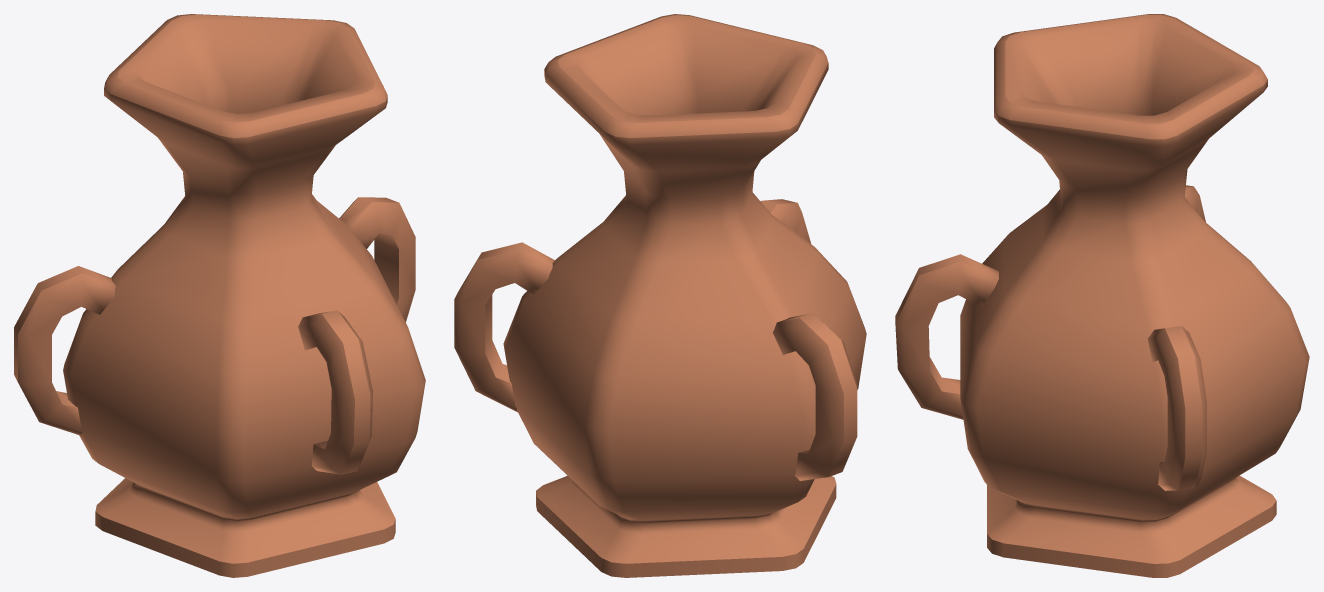
Rendered from Item_Vase.fbx.
3 views of the same model, side by side, from view 1: azimuth 30°, elevation 25°; view 2: azimuth 150°, elevation 25°; view 3: azimuth 270°, elevation 25° (orthographic).
Visible parts, largest first — view 1: Cylinder; view 2: Cylinder; view 3: Cylinder.
Part boxes in pixels (x1,y1,x2,y2): Cylinder: [14, 14, 425, 577]; Cylinder: [454, 14, 866, 577]; Cylinder: [895, 14, 1309, 577].
Size of the model in its own units: 64.91 by 69.49 by 58.61.
